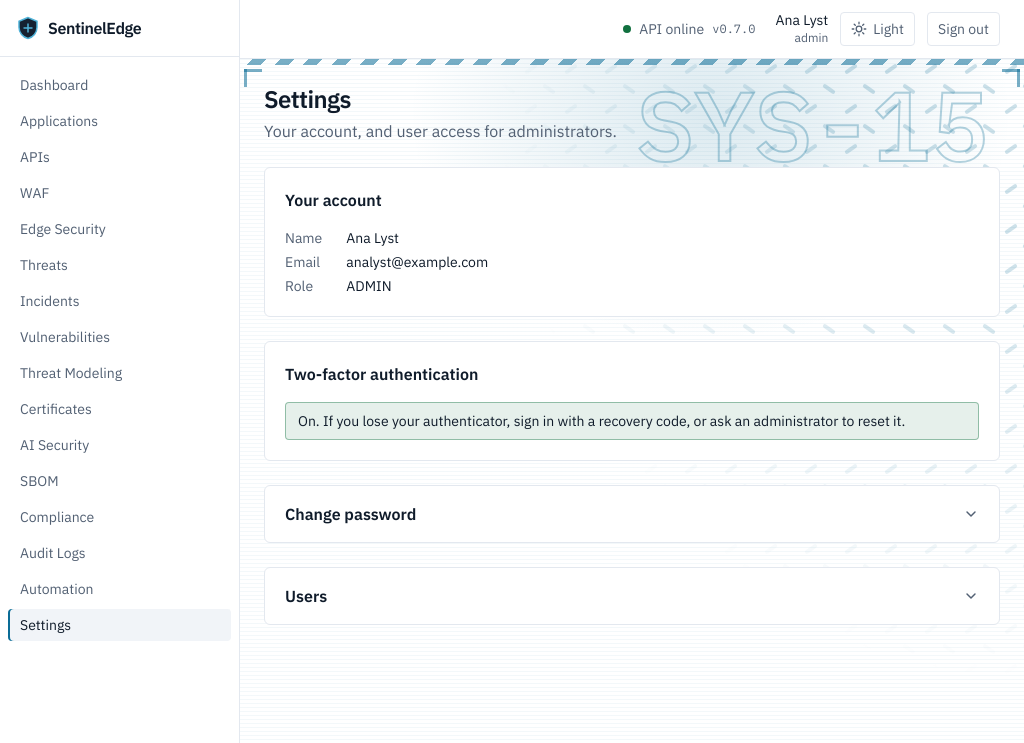
Test: role-aware pages › keeps Change password and Users closed for administrators until opened
Expected: the field labelled "Current password" is not shown
Click the button "Change password". click: (351, 514)
box: [265,486,999,542]
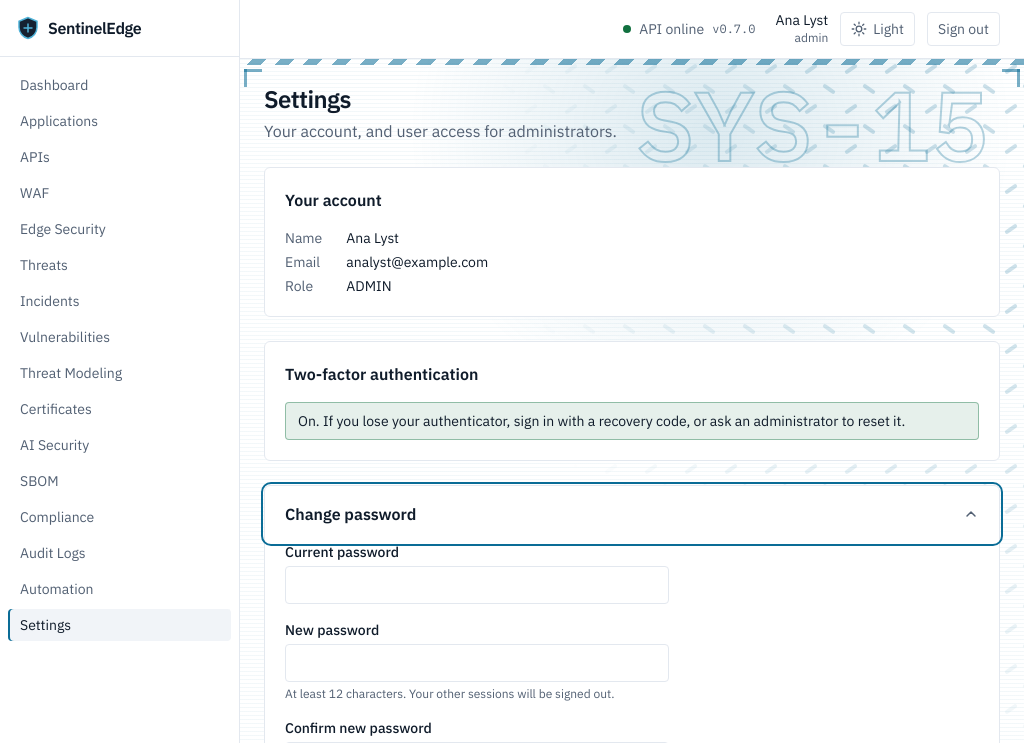
Result: the button "Change password" is expanded at [265,486,999,542]
Result: the password field labelled "Current password" is shown at [285,566,669,604]
